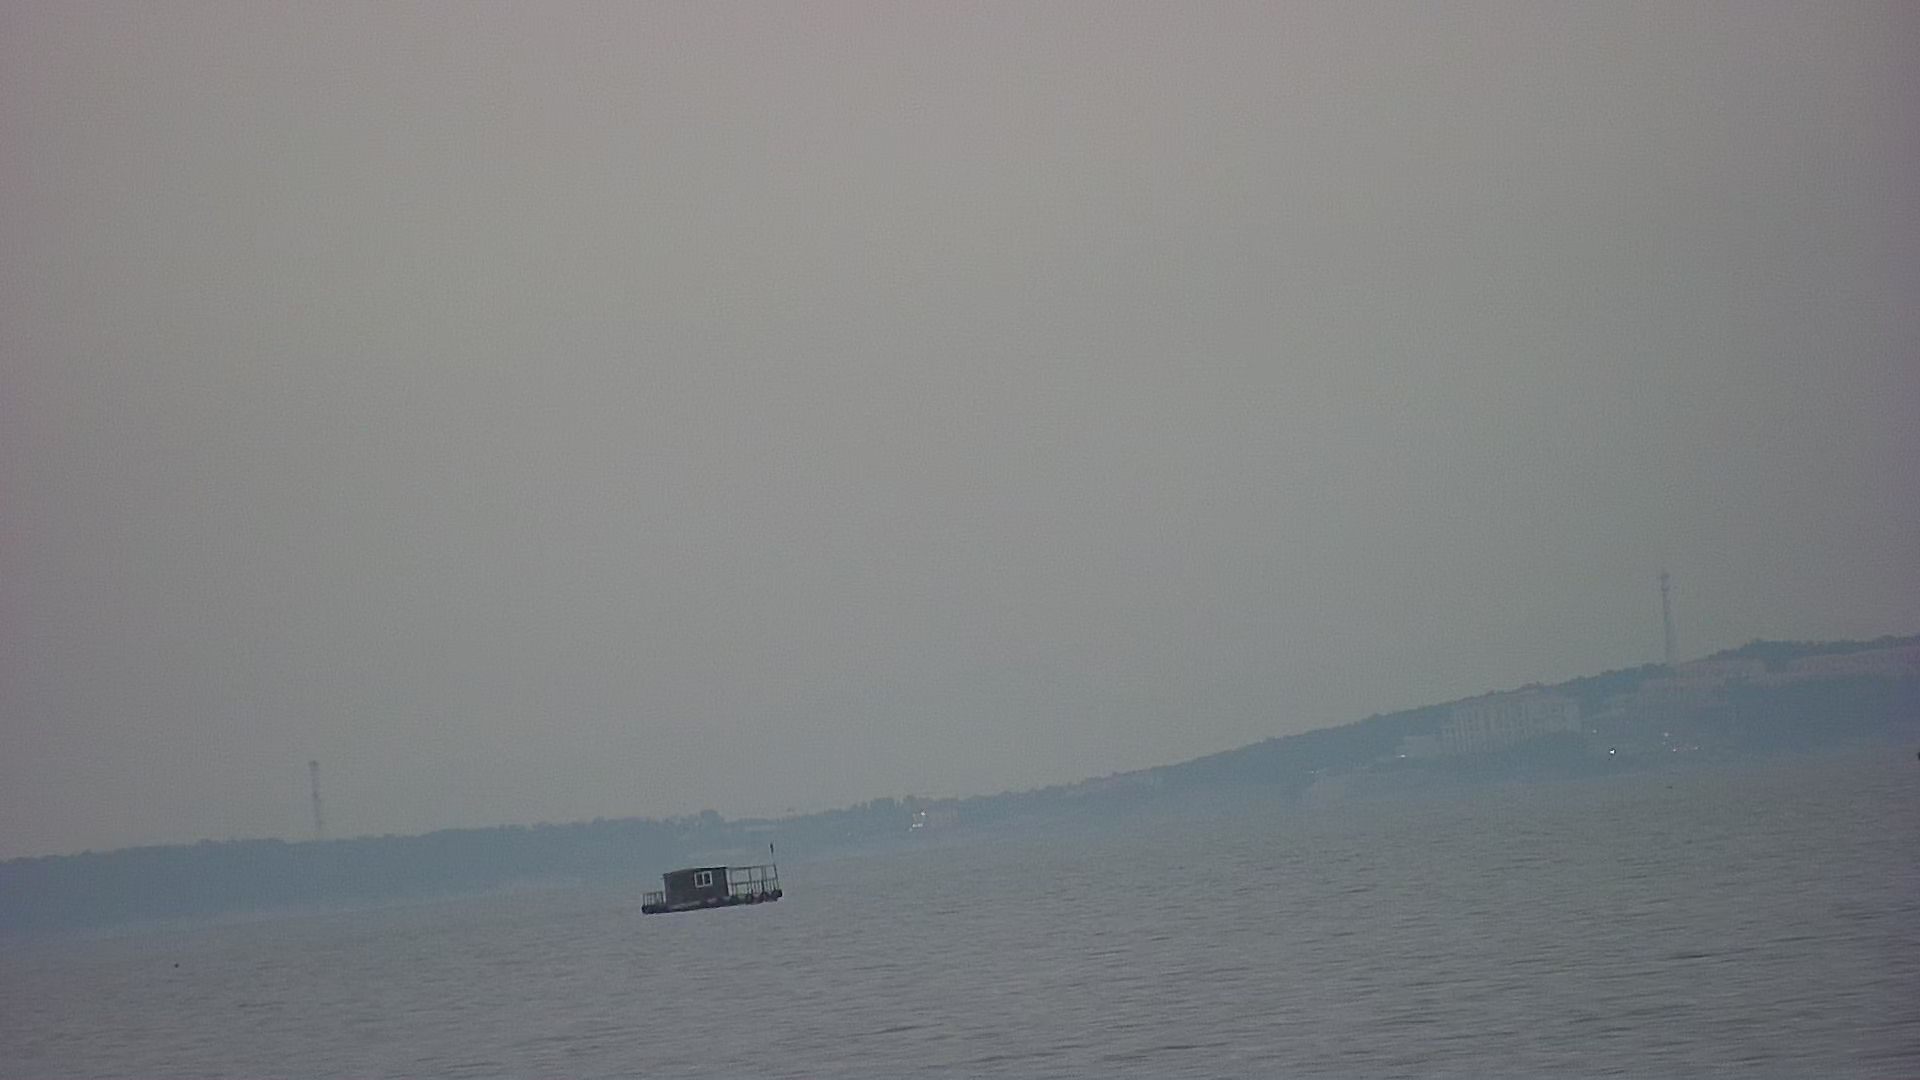platform: (626, 855, 786, 918)
